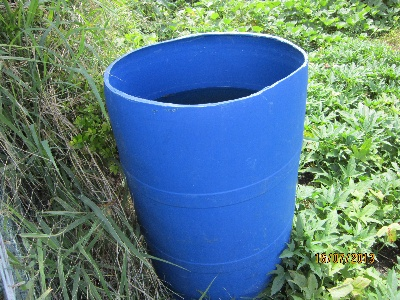bucket: (103, 31, 311, 300)
